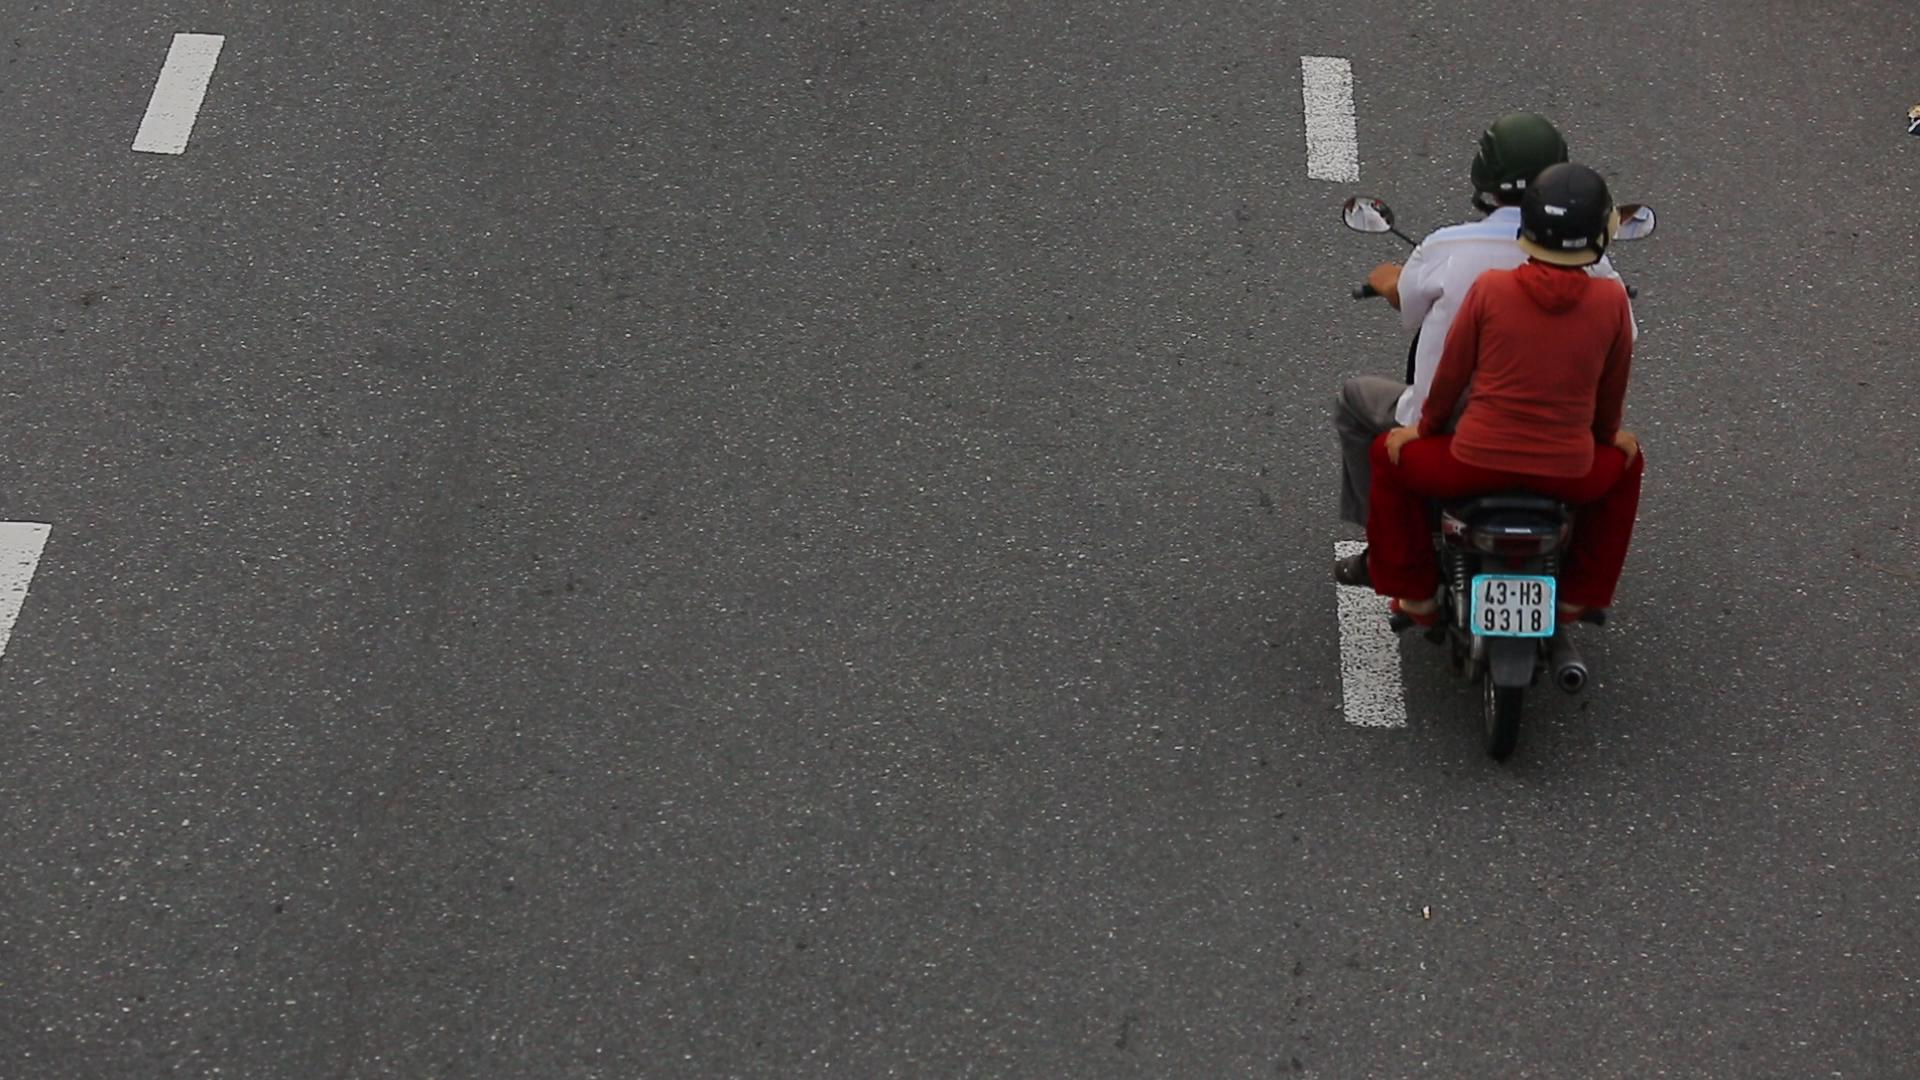motobike: (1324, 102, 1659, 779)
